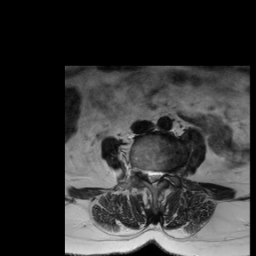CCS_normal: (150, 163, 155, 190)
LFS_severe_stenosis: (161, 163, 169, 183)
LLS_stenosis: (155, 163, 161, 185)
RFS_stenosis: (138, 161, 145, 183)
RLS_normal: (145, 163, 150, 185)
